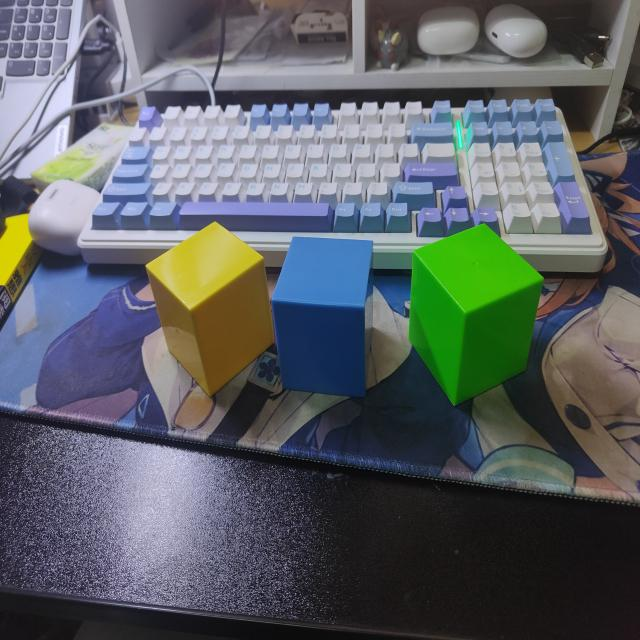blue: (272, 233, 373, 399)
green: (409, 225, 544, 408)
yellow: (144, 218, 274, 398)
